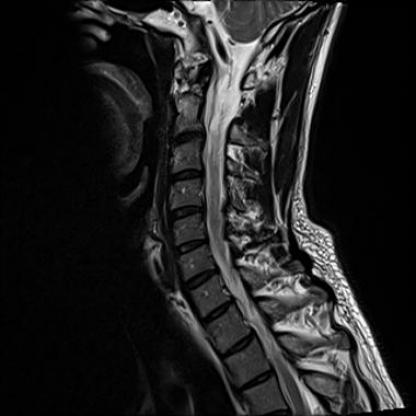Disc Protrusionrotation: (168, 167, 205, 185), (197, 306, 238, 320)
Osteophytesrotation: (168, 167, 205, 185)
